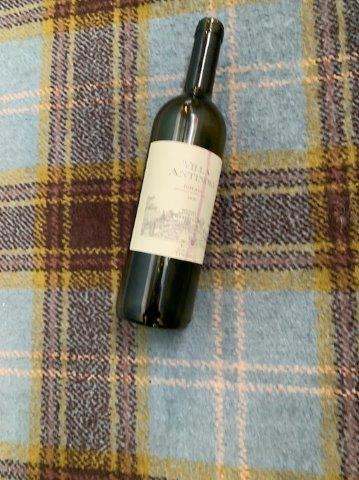botolkaca: (115, 17, 228, 330)
